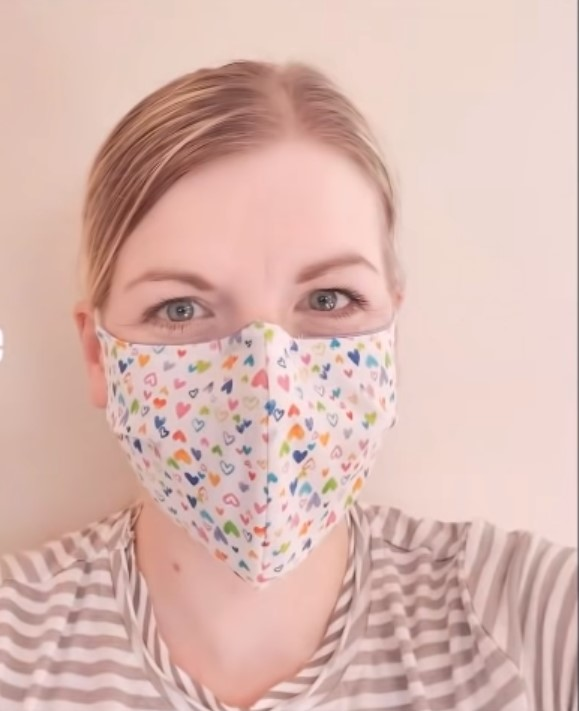face_with_mask: (71, 58, 404, 594)
